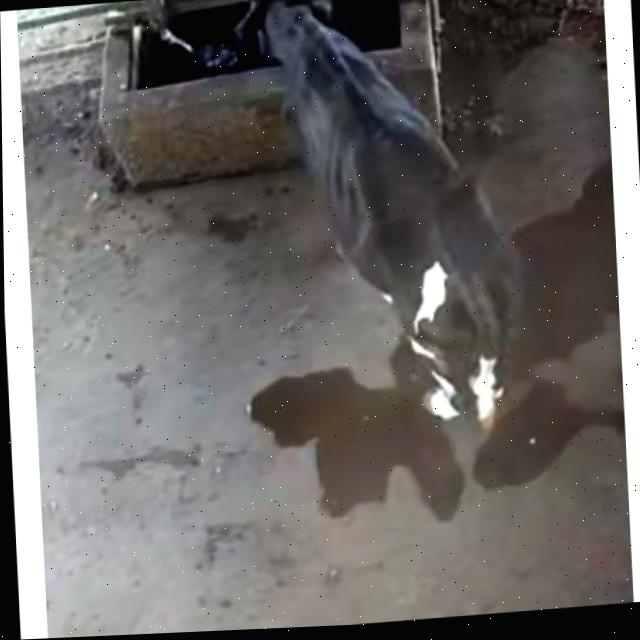drink: (194, 0, 417, 139)
